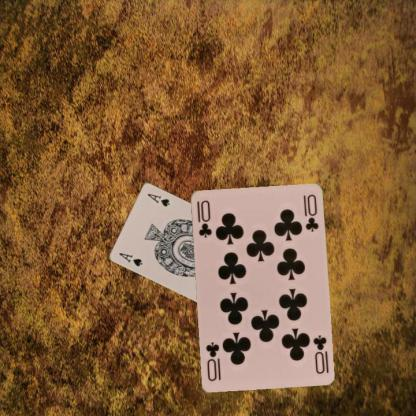10c: (310, 332, 330, 375), (196, 197, 212, 239)
As: (116, 250, 143, 268)
